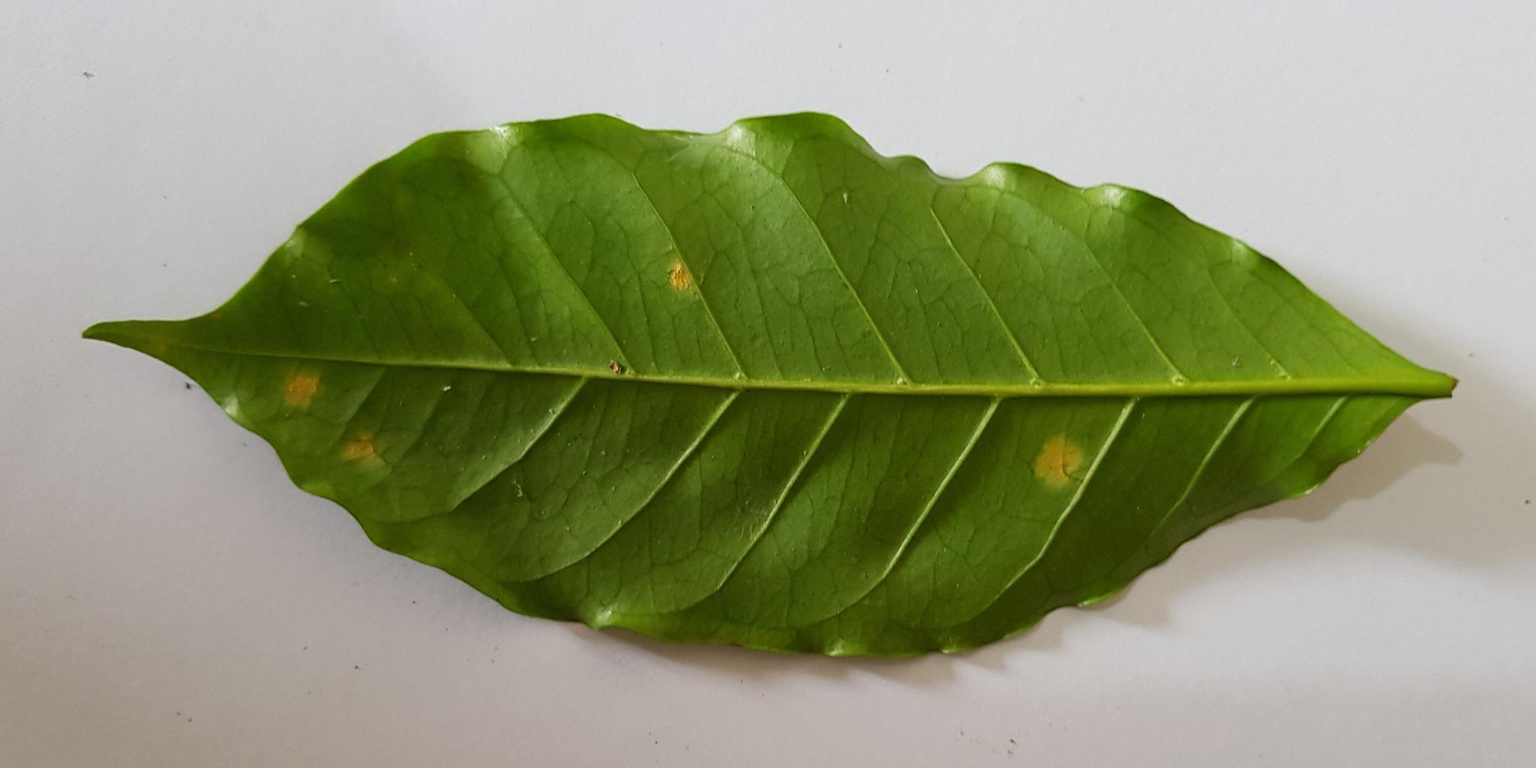Rust: (1020, 418, 1098, 502), (644, 240, 714, 314)
